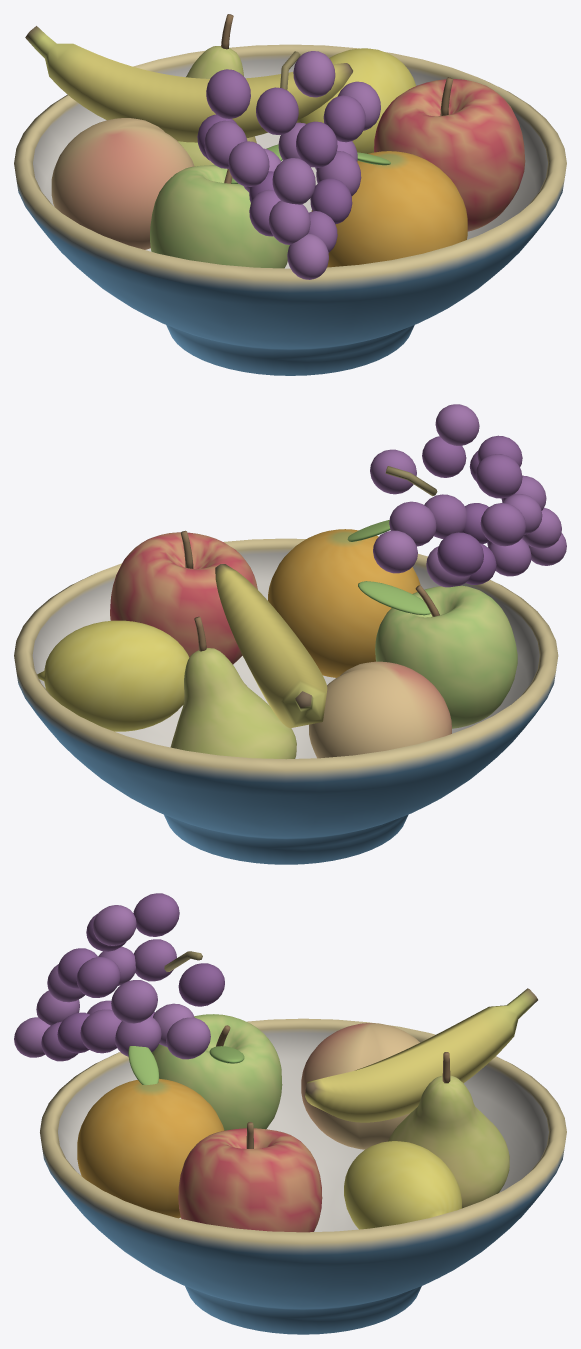
The model's file is fruit-bowl.glb.
The picture shows the model from 3 angles, top to bottom: view 1: azimuth 30°, elevation 25°; view 2: azimuth 150°, elevation 25°; view 3: azimuth 270°, elevation 25°; orthographic projection. The views are drawn at different scales.
Parts seen in each view (by area): view 1: bowl, grapes, apple · red, peach, banana, orange, apple · green, lemon, pear; view 2: bowl, grapes, apple · green, orange, lemon, apple · red, peach, pear, banana; view 3: bowl, grapes, orange, apple · red, banana, apple · green, pear, lemon, peach.
Boxes of the visible parts, <box> form: bowl: <box>14,44,566,375</box>; grapes: <box>197,51,380,279</box>; apple · red: <box>374,77,525,231</box>; peach: <box>51,118,194,249</box>; banana: <box>25,26,352,142</box>; orange: <box>311,151,467,267</box>; apple · green: <box>150,144,289,268</box>; lemon: <box>296,48,416,153</box>; pear: <box>178,14,256,166</box>; bowl: <box>14,538,558,864</box>; grapes: <box>370,404,566,587</box>; apple · green: <box>358,581,517,728</box>; orange: <box>268,520,420,677</box>; lemon: <box>37,620,189,731</box>; apple · red: <box>110,530,257,664</box>; peach: <box>309,661,451,758</box>; pear: <box>170,616,296,759</box>; banana: <box>215,564,327,728</box>; bowl: <box>40,1018,566,1334</box>; grapes: <box>14,893,224,1061</box>; orange: <box>77,1046,224,1218</box>; apple · red: <box>178,1122,322,1232</box>; banana: <box>305,988,537,1122</box>; apple · green: <box>152,1014,282,1130</box>; pear: <box>387,1052,509,1208</box>; lemon: <box>344,1141,461,1229</box>; peach: <box>301,1023,419,1149</box>.
Bounding box in the file's own units: 0.2931 × 0.211 × 0.3075.
